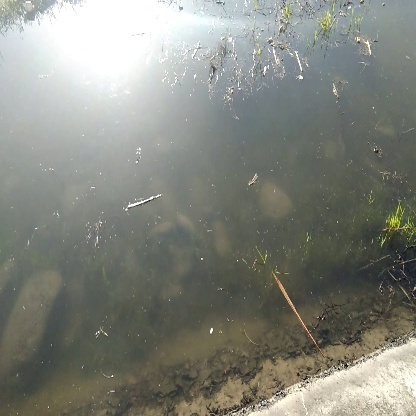branch: (118, 183, 171, 217)
